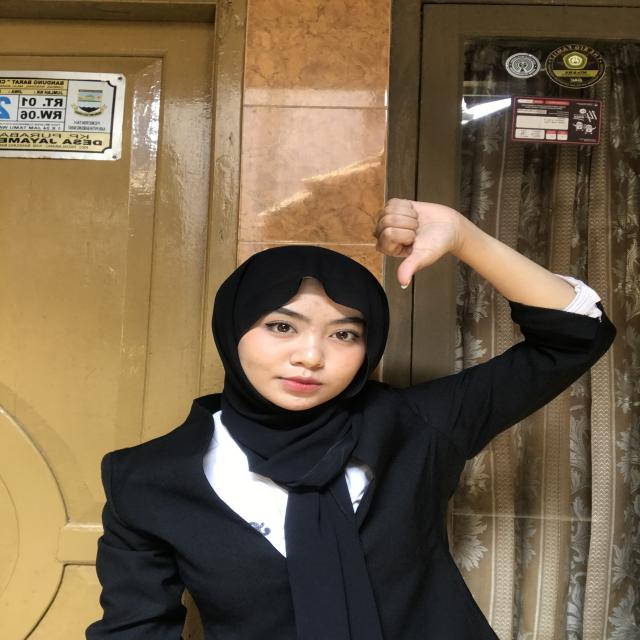sedih: (364, 186, 475, 306)
